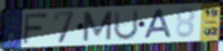7: (52, 9, 76, 45)
8: (174, 6, 198, 40)
A: (142, 8, 174, 40)
F: (21, 12, 50, 45)
M: (81, 10, 115, 43)
U: (112, 7, 141, 42)
